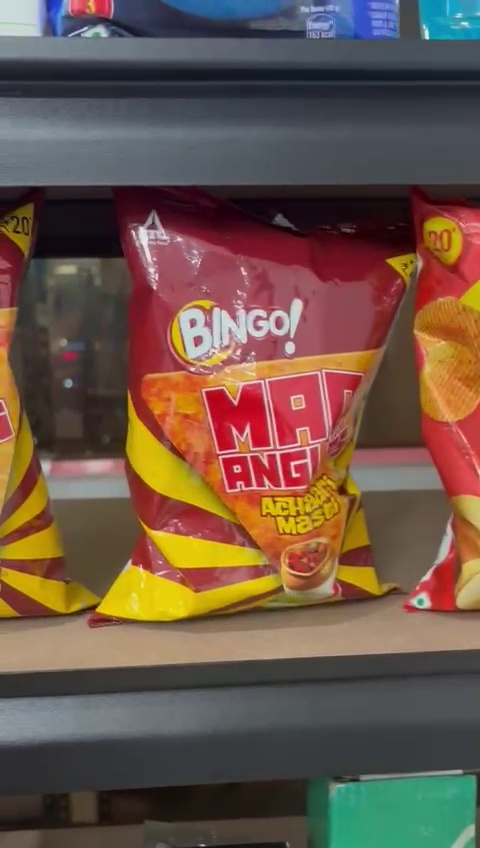Bingo Mad Angles: (119, 201, 376, 615)
